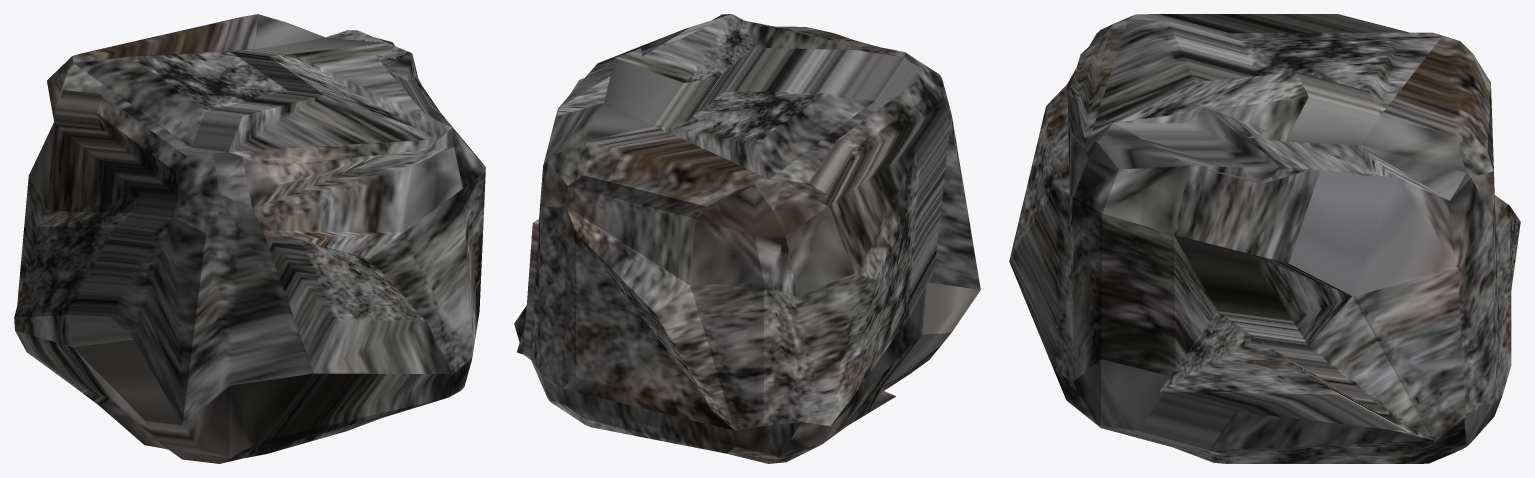
File: lithium.glb
The picture shows the model from 3 angles, left to right: view 1: azimuth 30°, elevation 25°; view 2: azimuth 150°, elevation 25°; view 3: azimuth 270°, elevation 25°; orthographic projection. The views are drawn at different scales.
Visible parts, largest first — view 1: Cube.001; view 2: Cube.001; view 3: Cube.001.
Part boxes in pixels (left/top/right/bottom): Cube.001: left=14, top=14, right=485, bottom=463; Cube.001: left=514, top=14, right=980, bottom=463; Cube.001: left=1009, top=14, right=1520, bottom=463.
Size of the model in its own units: 2.59 by 2.35 by 2.96.
1 material, 1 textured.
